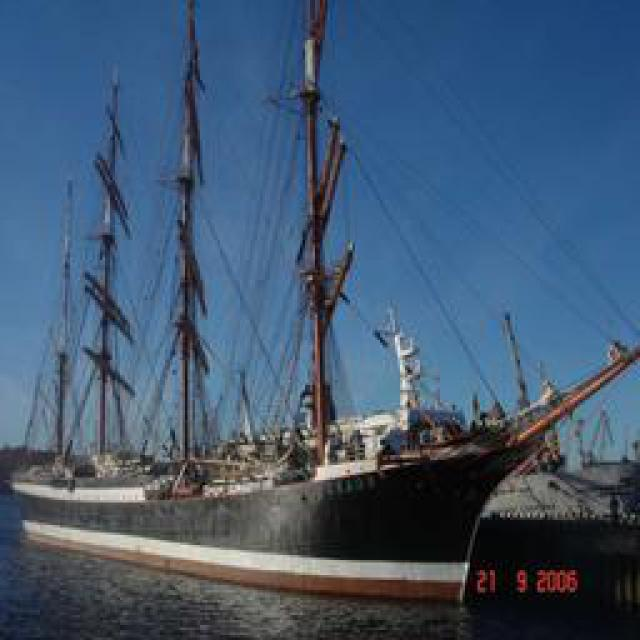Ship: (4, 1, 640, 610)
